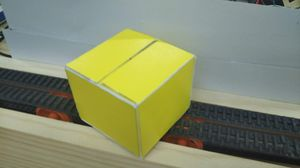box4: (63, 27, 194, 158)
